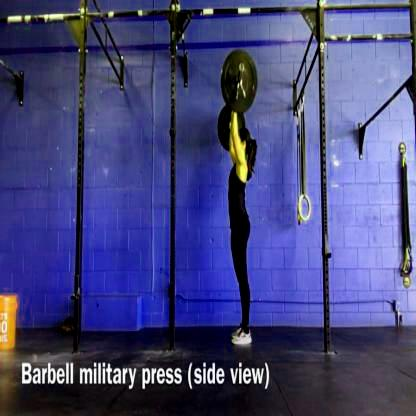Barbell: (232, 57, 249, 90)
